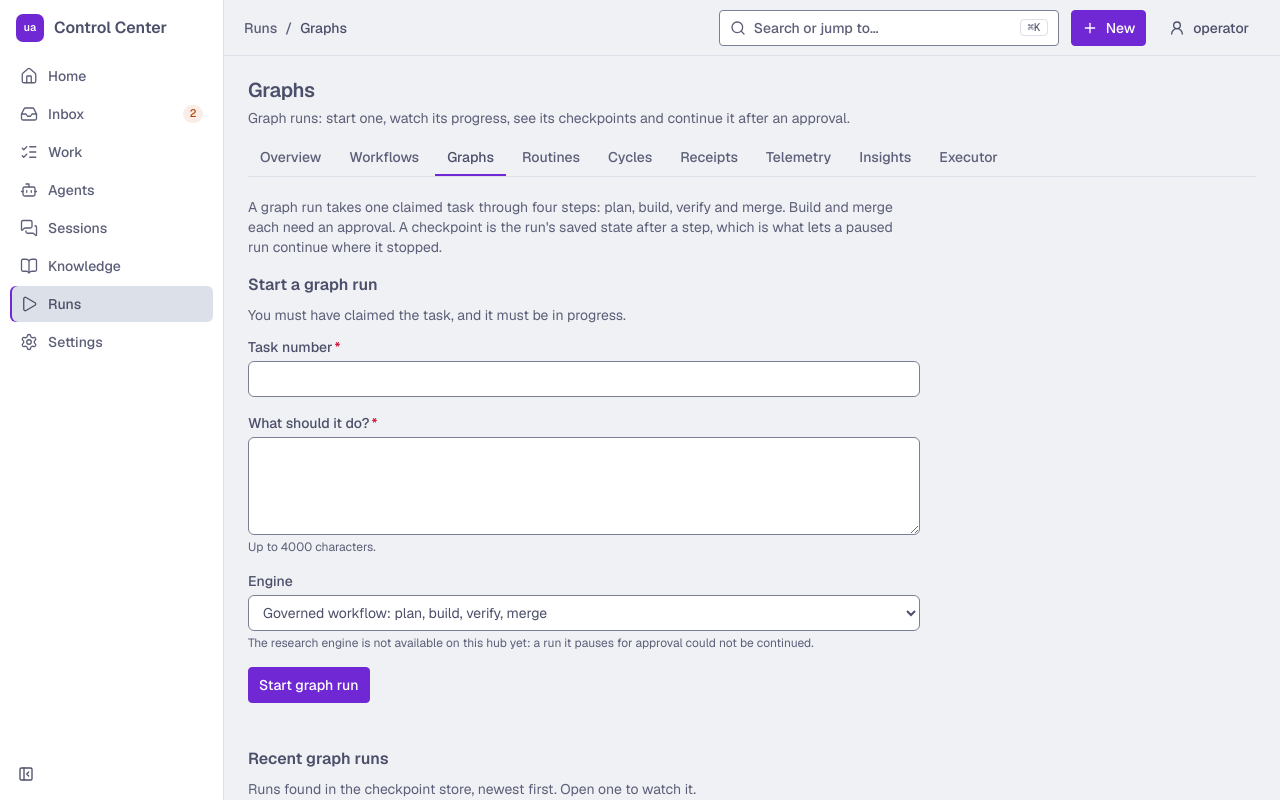
Scenario: /runs/graphs › a refusal (task not claimed) is a plain message, raw text in the detail
This screenshot has width=1280, height=800.
Type "42" into the field labelled "Task number*".
click(584, 379); type("42")  # box [248,361,920,397]
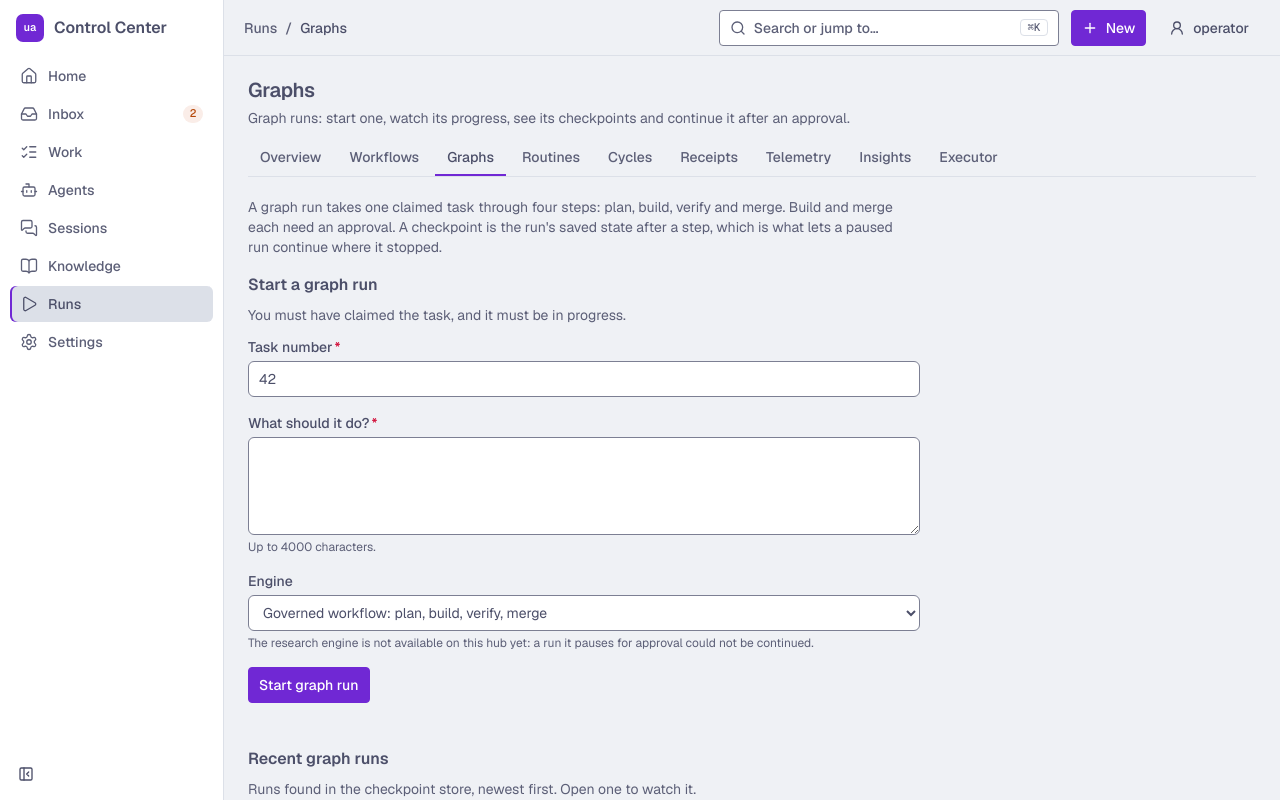
Type "Fix the login form" into the text box labelled "What should it do?*".
click(584, 486); type("Fix the login form")  # box [248,437,920,535]
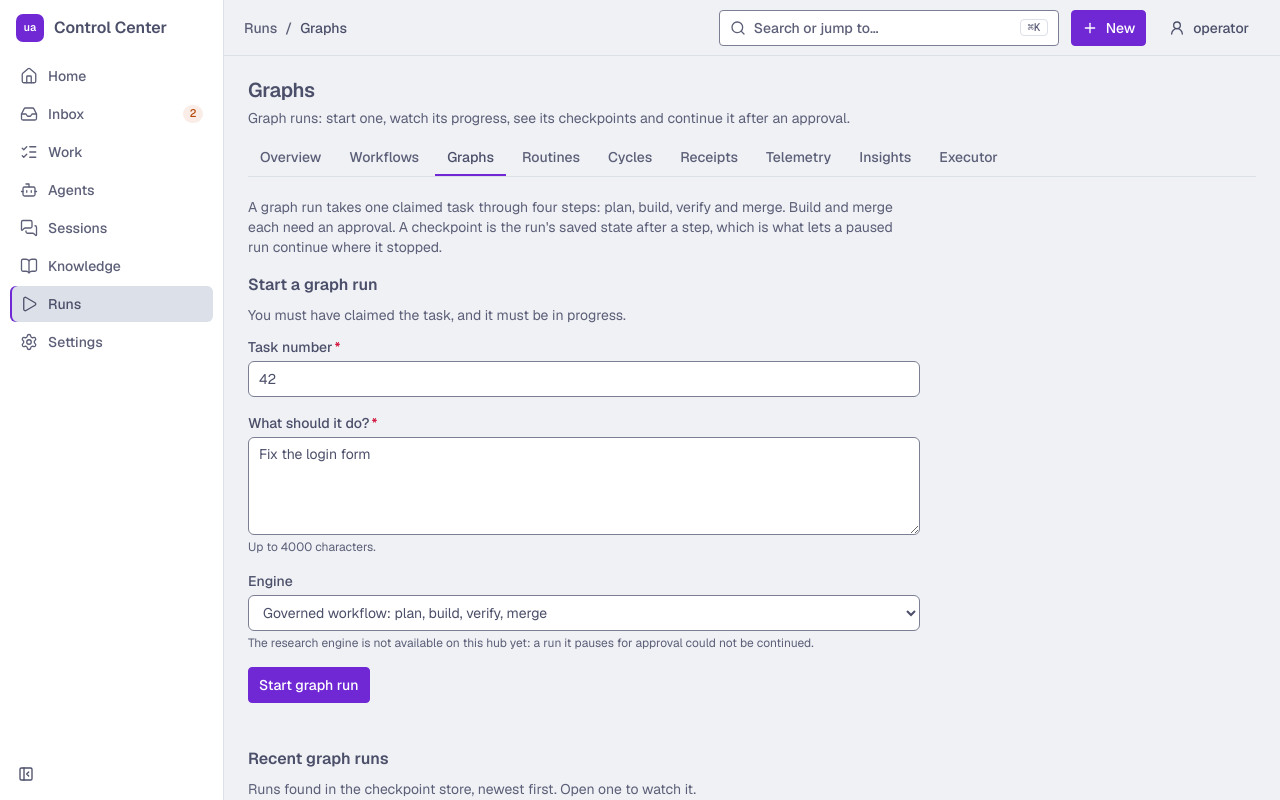
Click the button "Start graph run".
click(309, 685)  # box [248,667,370,703]
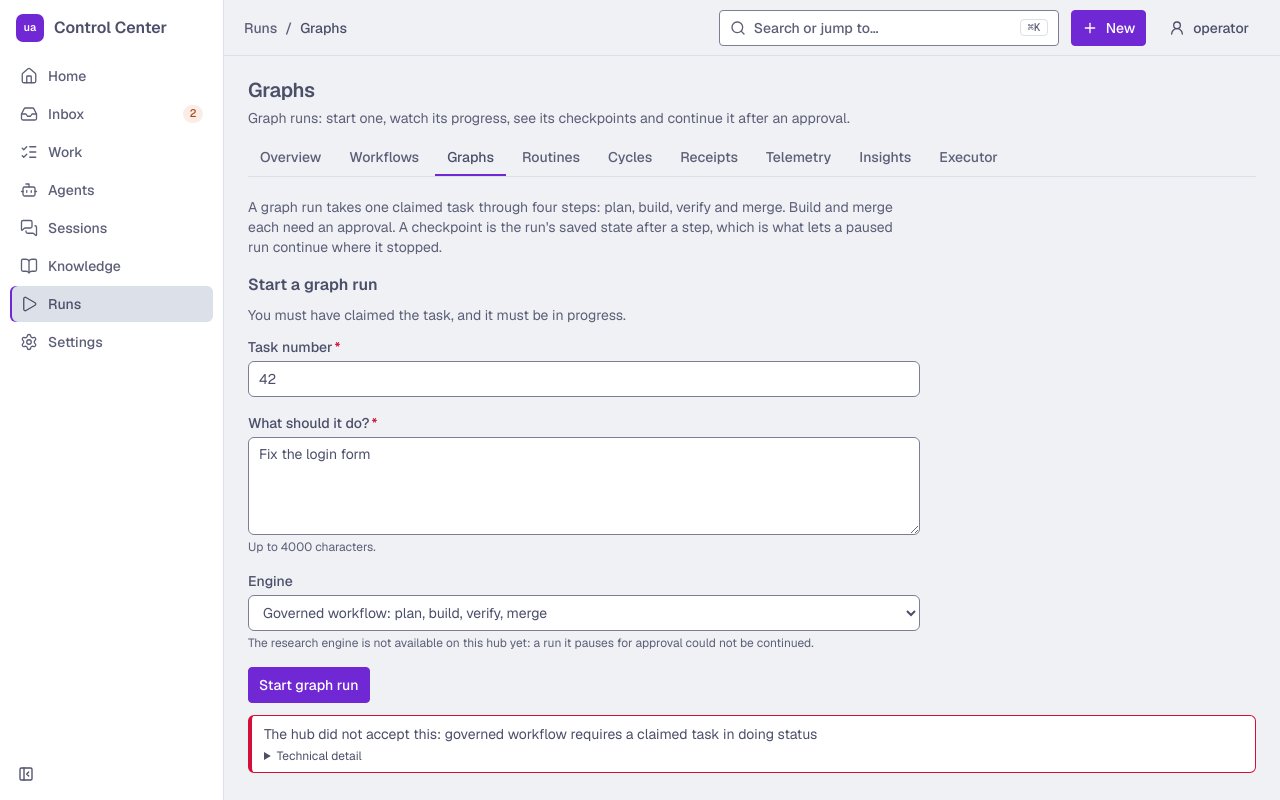
Result: the message shows "The hub did not accept this" at [264,725,817,743]
